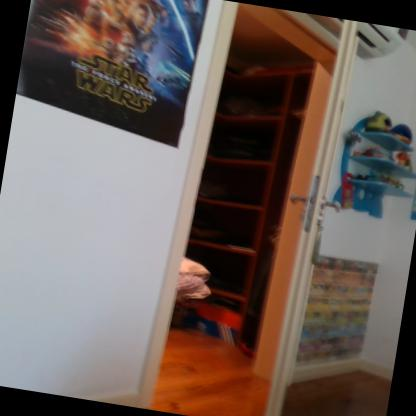semi: (154, 0, 363, 415)
